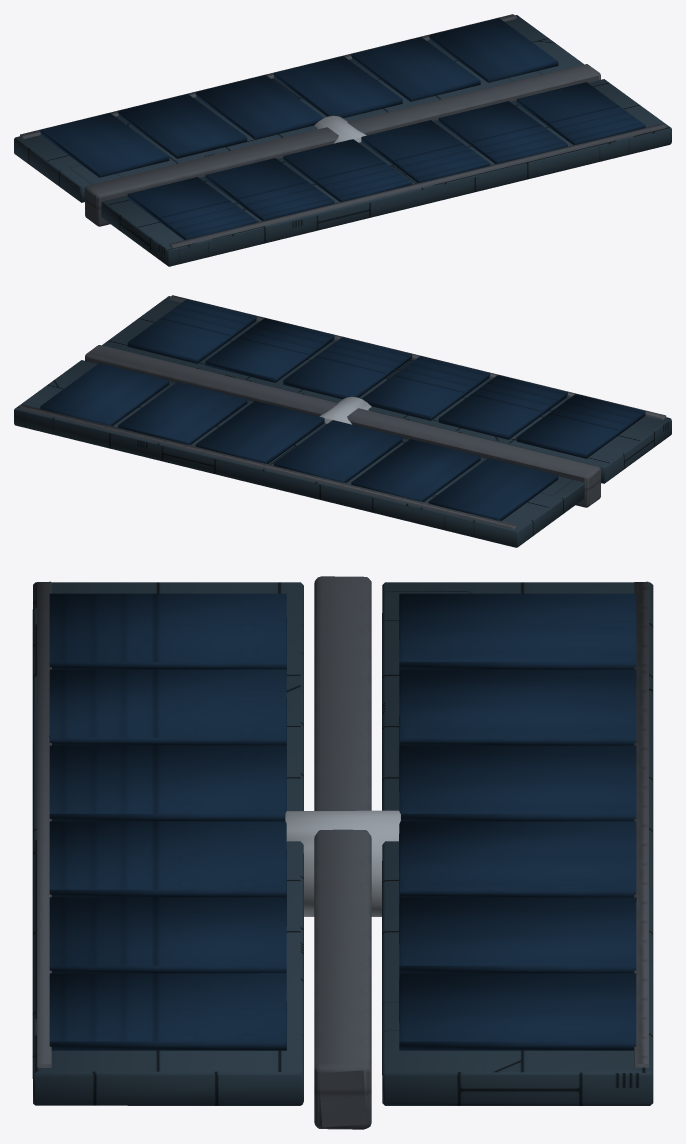
File: ops_rectangular_solar_wing_lod2.glb
3 views of the same model, one above another, from view 1: azimuth 30°, elevation 25°; view 2: azimuth 150°, elevation 25°; view 3: azimuth 270°, elevation 25° (orthographic). The views are drawn at different scales.
Parts seen in each view (by area): view 1: LOD2_Ceramic_solar, LOD2_Armor, LOD2_Mechanical, LOD2_BrushedMetal; view 2: LOD2_Ceramic_solar, LOD2_Armor, LOD2_Mechanical, LOD2_BrushedMetal; view 3: LOD2_Ceramic_solar, LOD2_Armor, LOD2_Mechanical, LOD2_BrushedMetal.
Part boxes in pixels (x1,y1,x2,y2): LOD2_Ceramic_solar: (40, 18, 645, 239); LOD2_Armor: (14, 15, 671, 266); LOD2_Mechanical: (20, 14, 665, 248); LOD2_BrushedMetal: (314, 115, 366, 143); LOD2_Ceramic_solar: (40, 299, 645, 520); LOD2_Armor: (14, 296, 671, 547); LOD2_Mechanical: (19, 295, 666, 529); LOD2_BrushedMetal: (319, 396, 371, 424); LOD2_Ceramic_solar: (49, 593, 636, 1050); LOD2_Armor: (32, 582, 653, 1105); LOD2_Mechanical: (37, 576, 648, 1129); LOD2_BrushedMetal: (285, 810, 400, 916).
Size of the model in its own units: 4.8 by 0.4385 by 2.56.
4 materials, 4 textured.
